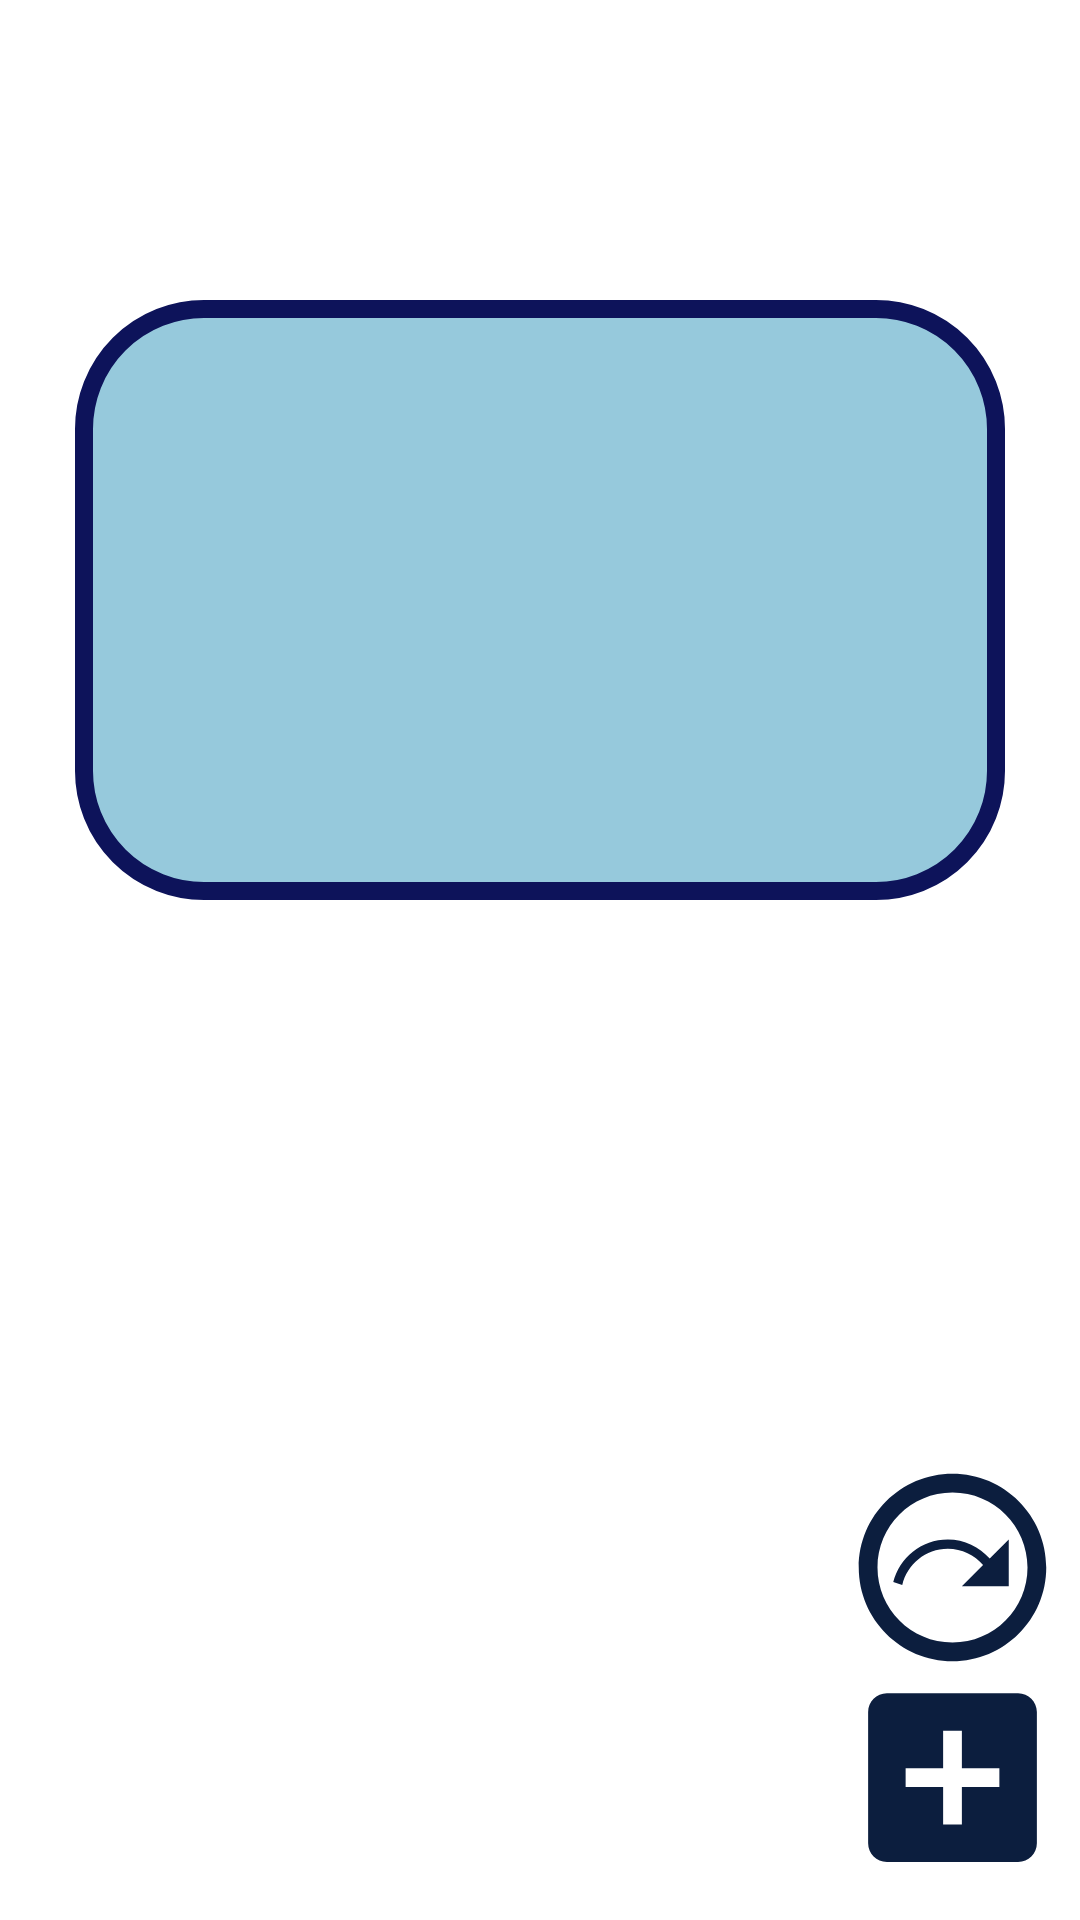

Screen size 1080px x 1920px. Icon name, then its center in pixels as [x,y]:
add: [952,1777]
next: [952,1567]
